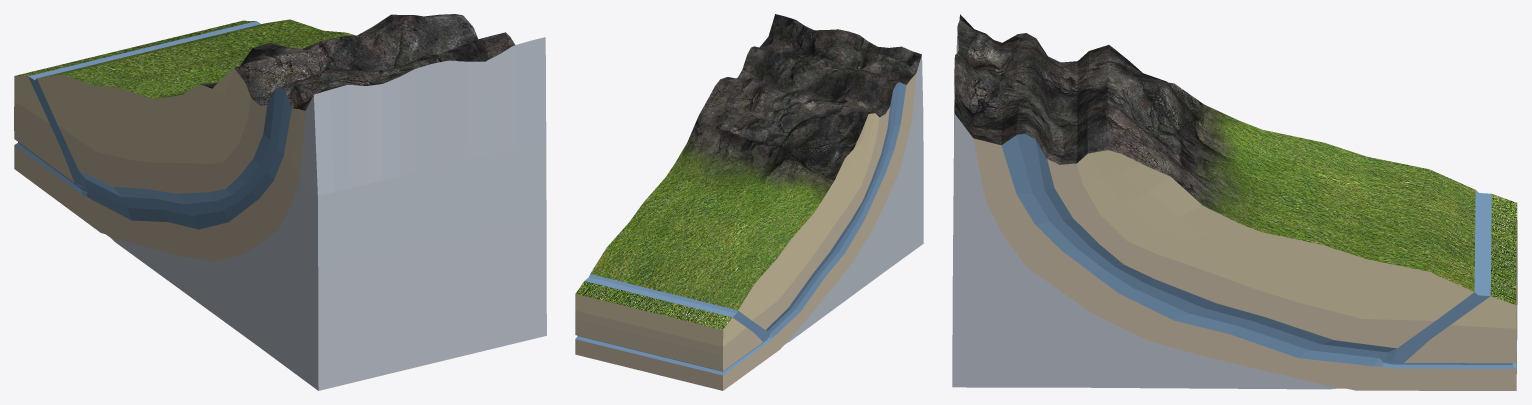
3 views of the same model, side by side, from view 1: azimuth 30°, elevation 25°; view 2: azimuth 150°, elevation 25°; view 3: azimuth 270°, elevation 25° (orthographic). The views are drawn at different scales.
Parts seen in each view (by area): view 1: Cube.006; view 2: Cube.006; view 3: Cube.006.
Boxes of the visible parts, bbox=[...] form: Cube.006: bbox=[14, 14, 546, 390]; Cube.006: bbox=[575, 14, 923, 390]; Cube.006: bbox=[952, 14, 1517, 390].
Bounding box in the file's own units: 0.2632 × 0.3283 × 0.6062.
Materials: 1 (1 with a texture image).
